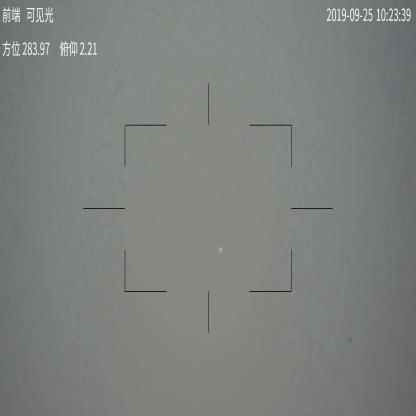uav: (217, 245, 225, 254)
